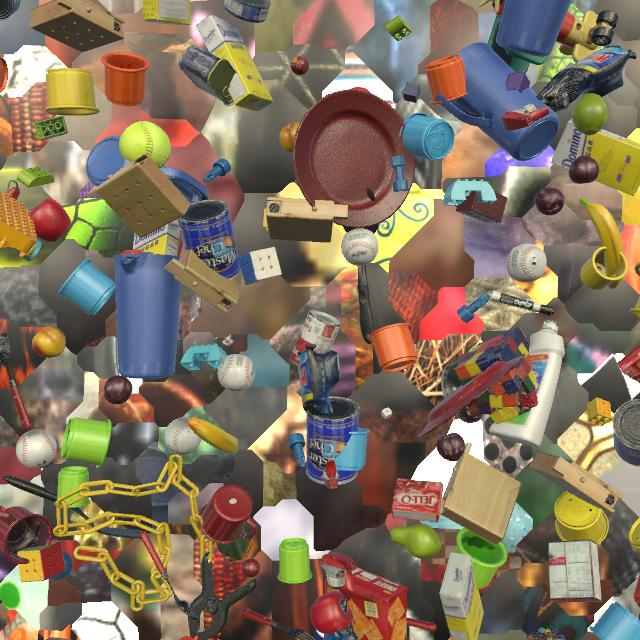ycb_002_master_chef_can: (178, 200, 241, 280), (306, 396, 360, 485), (612, 399, 640, 467)
ycb_003_cracker_box: (324, 567, 408, 640), (46, 637, 71, 640)
ycb_004_sugar_box: (196, 15, 274, 111), (552, 118, 640, 196), (439, 552, 484, 640), (133, 219, 180, 256), (143, 0, 191, 25)
ycb_005_tomato_soup_can: (289, 310, 341, 367)
ycb_007_tuna_fish_can: (223, 0, 271, 23), (0, 0, 21, 21)
ycb_008_pudding_box: (548, 539, 602, 602)
ycb_009_gelatin_box: (391, 478, 443, 523), (617, 345, 640, 384)
ycb_010_potted_meat_can: (179, 45, 237, 106)
ycb_011_banana: (579, 198, 624, 289), (188, 417, 238, 454)
ycb_013_apple: (310, 591, 353, 635), (28, 198, 71, 242), (349, 87, 372, 94)
ycb_015_peach: (32, 326, 66, 358), (279, 122, 300, 153)
ycb_016_pear: (390, 524, 442, 559), (572, 93, 609, 135)
ycb_018_plum: (534, 187, 565, 216), (569, 155, 599, 184), (103, 375, 132, 405), (436, 433, 465, 461)
